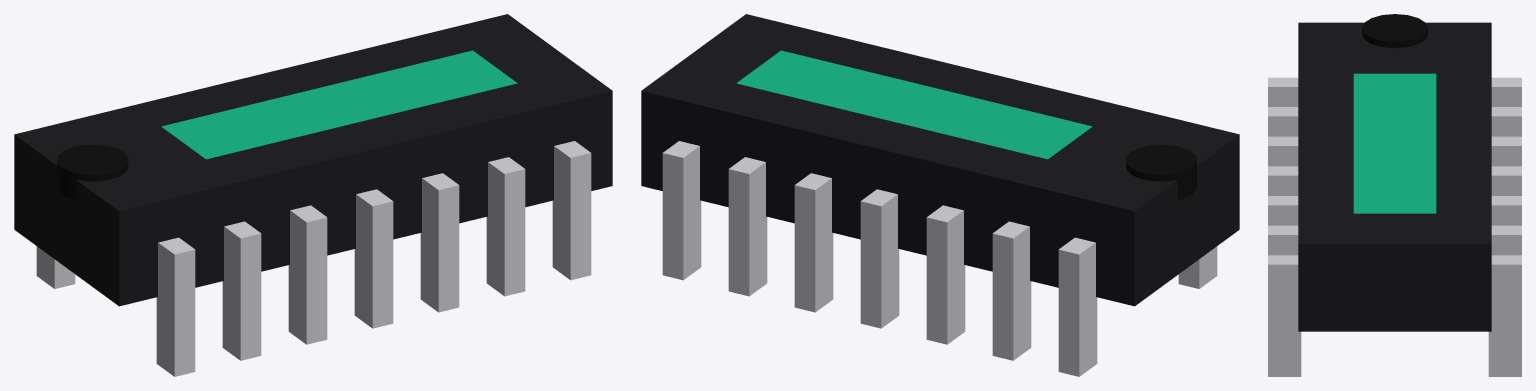
The picture shows the model from 3 angles, left to right: view 1: azimuth 30°, elevation 25°; view 2: azimuth 150°, elevation 25°; view 3: azimuth 270°, elevation 25°; orthographic projection. The views are drawn at different scales.
Size of the model in its own units: 0.192 by 0.0625 by 0.092.
